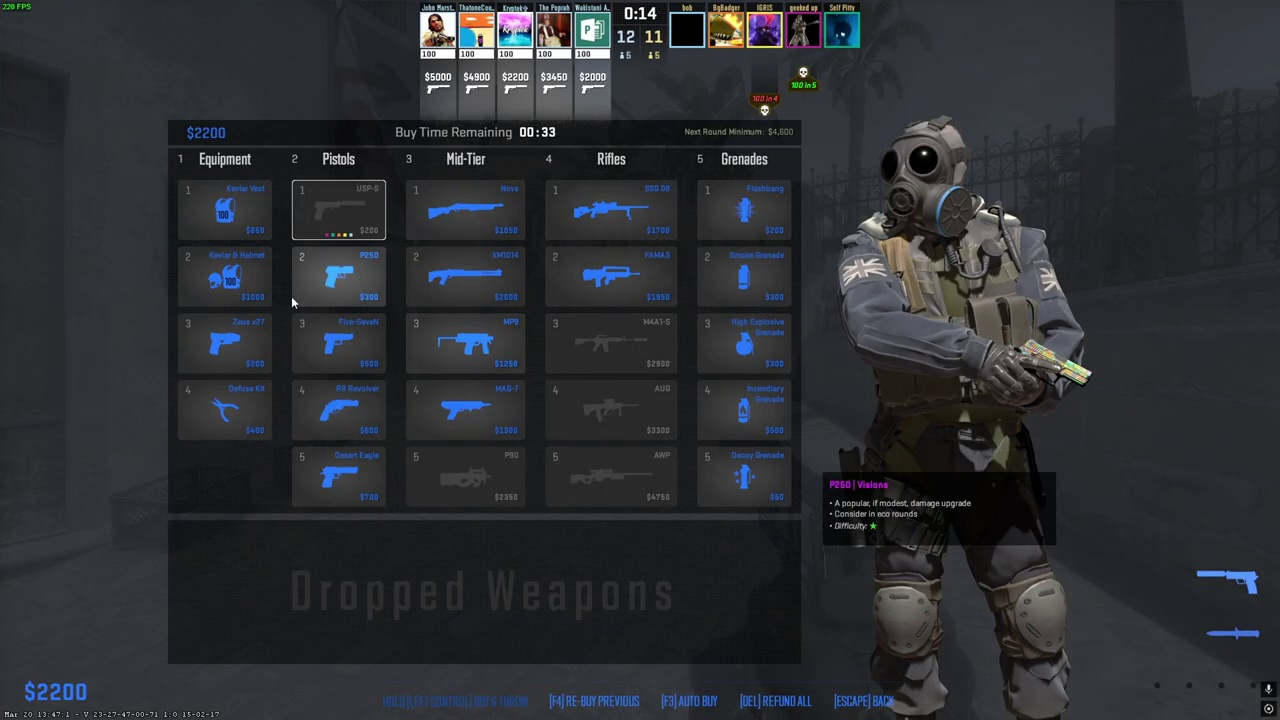CT: (853, 115, 1079, 720)
